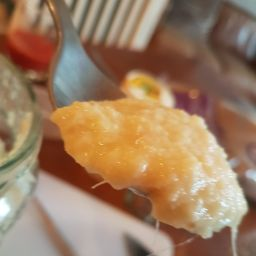Ginger garlic paste: (38, 97, 251, 253), (84, 113, 224, 200)
